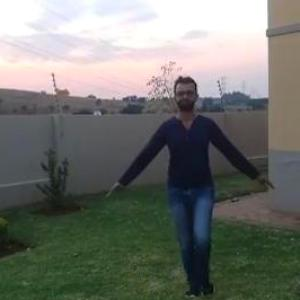land: (133, 87, 249, 289)
